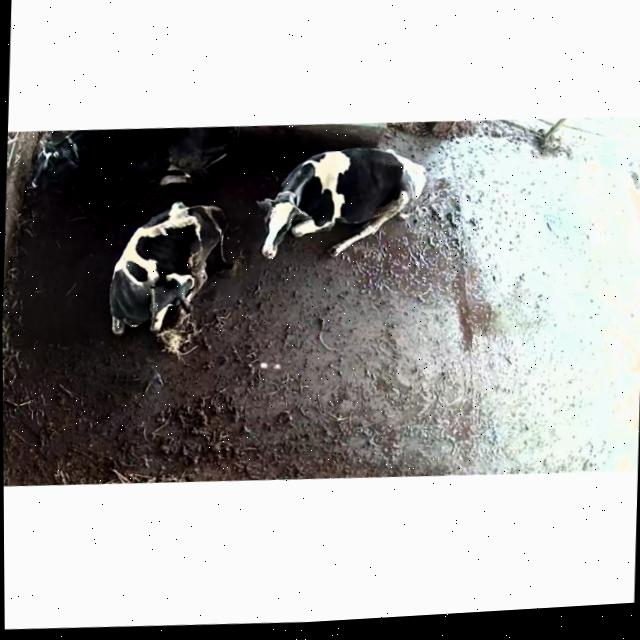lay: (246, 131, 452, 269), (80, 188, 241, 354)
